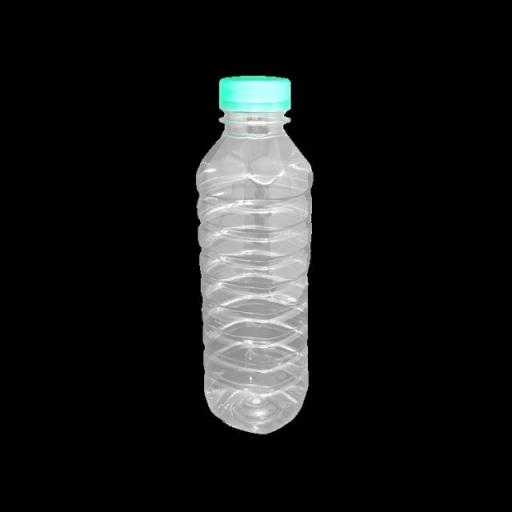plastic: (197, 74, 315, 434)
